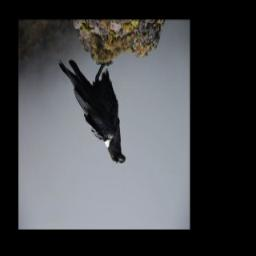Crow: (57, 54, 126, 169)
